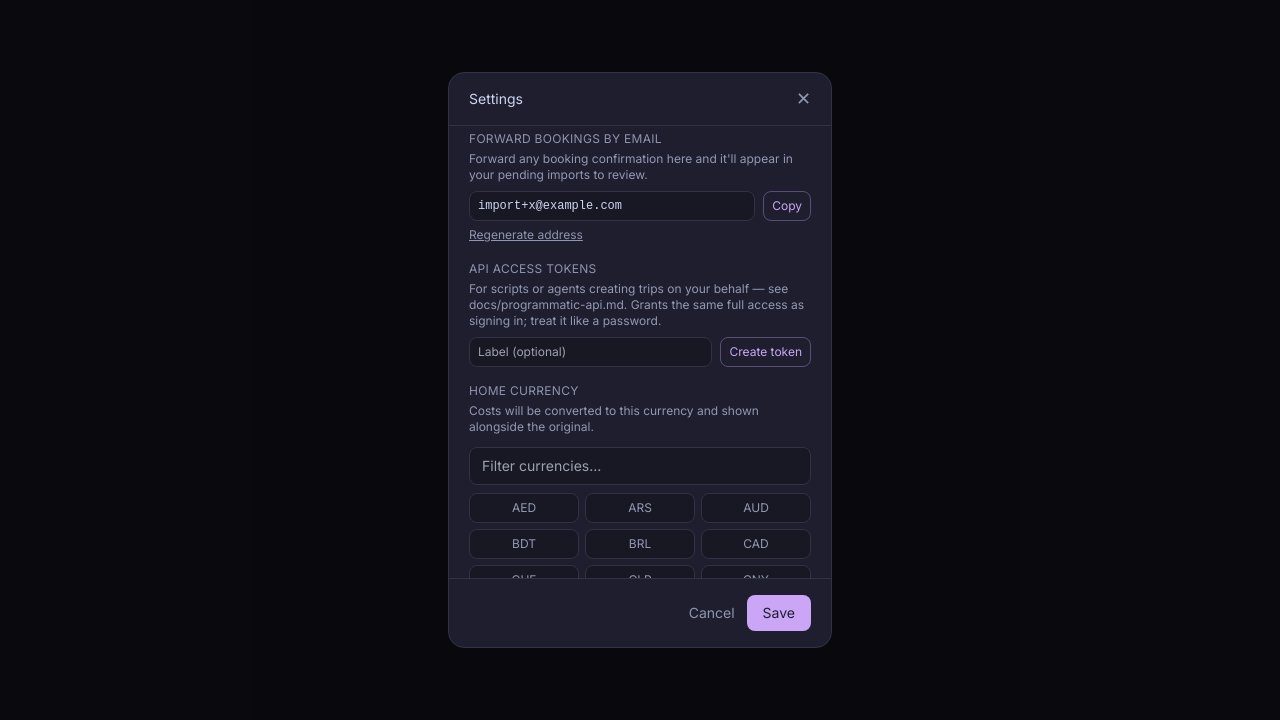
Test: API access tokens › shows an error message if creating a token fails
(page scrolled)
Expected: the text "import+x@example.com" is shown, top-left (469, 191), bottom-right (755, 221)
Click the button "Create token" at x=766, y=352, box top-left (720, 337), bottom-right (811, 367)
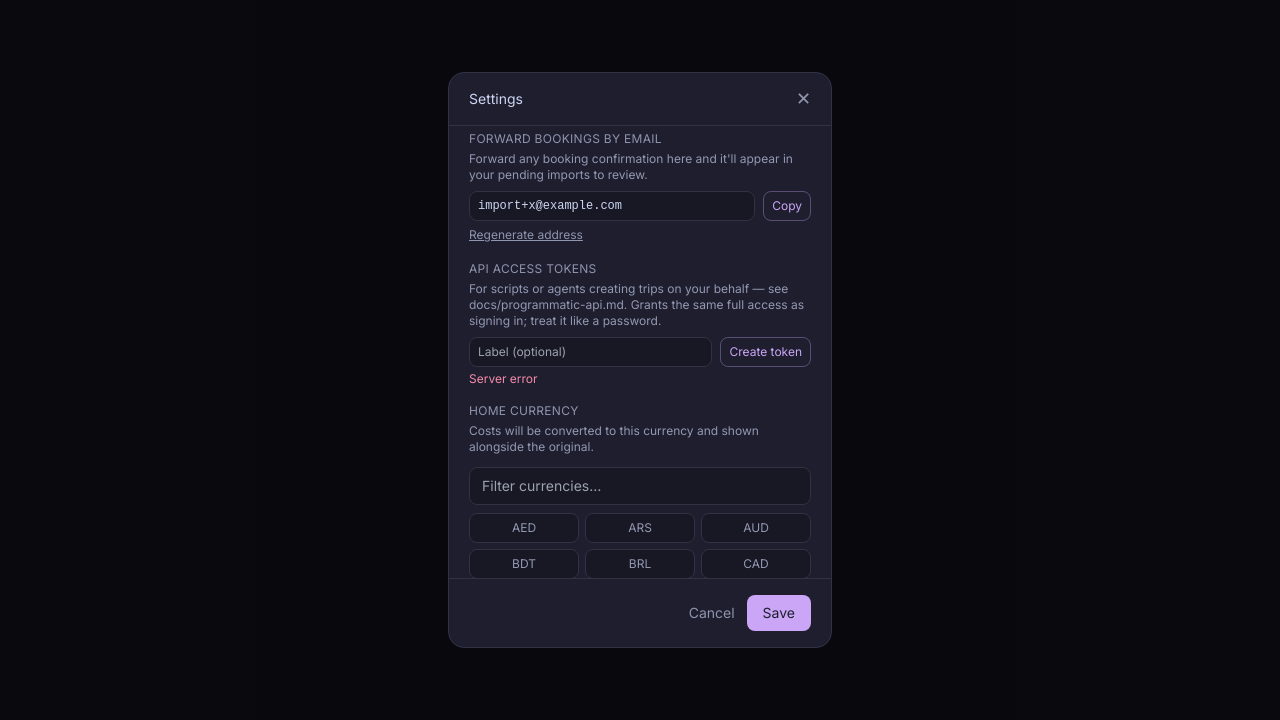
Now the text "Server error" is shown, box top-left (469, 371), bottom-right (538, 386)
